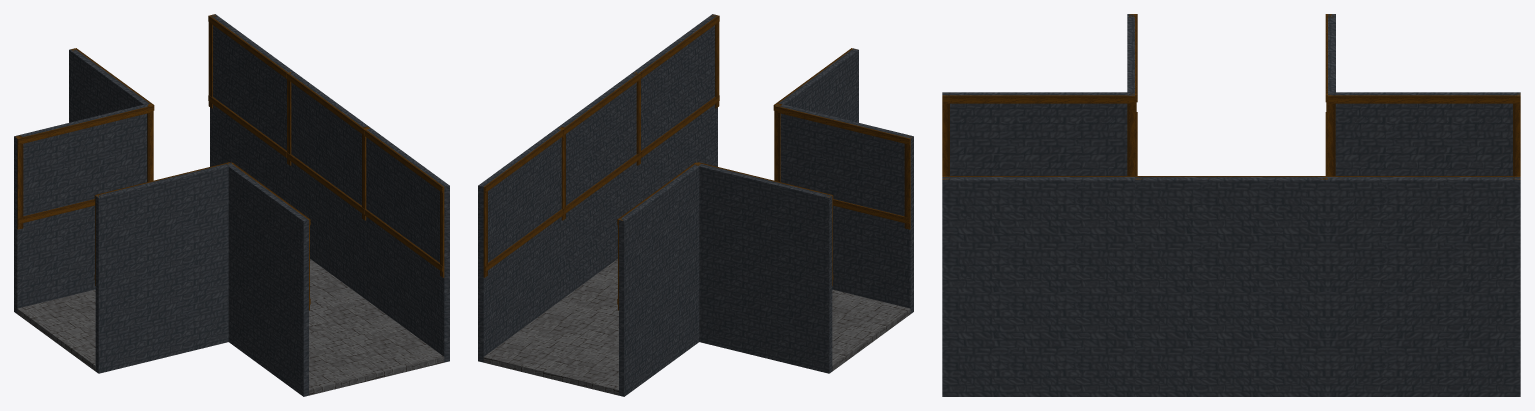
The model's file is T Stueck Schlucht V1.fbx.
3 renders of one model, left to right at view 1: azimuth 30°, elevation 25°; view 2: azimuth 150°, elevation 25°; view 3: azimuth 270°, elevation 25°, orthographic. The views are drawn at different scales.
Visible parts, largest first — view 1: T Stück Schlucht V1.012, T Stück Schlucht V1.015, T Stück Schlucht V1.010, T Stück Schlucht V1.002, T Stück Schlucht V1.013, T Stück Schlucht V1.017, T Stück Schlucht V1.016, T Stück Schlucht V1.018, T Stück Schlucht V1.006, T Stück Schlucht V1.008, T Stück Schlucht V1.011, T Stück Schlucht V1.005 (+4 smaller); view 2: T Stück Schlucht V1.015, T Stück Schlucht V1.012, T Stück Schlucht V1.011, T Stück Schlucht V1.003, T Stück Schlucht V1.014, T Stück Schlucht V1.018, T Stück Schlucht V1.016, T Stück Schlucht V1.017, T Stück Schlucht V1.007, T Stück Schlucht V1.009, T Stück Schlucht V1.010, T Stück Schlucht V1.005 (+4 smaller); view 3: T Stück Schlucht V1.016, T Stück Schlucht V1.017, T Stück Schlucht V1.018, T Stück Schlucht V1.005, T Stück Schlucht V1.006, T Stück Schlucht V1.007, T Stück Schlucht V1.014, T Stück Schlucht V1.013, T Stück Schlucht V1.015, T Stück Schlucht V1.012.
Boxes of the visible parts, x1,y1,x2,y2 form: T Stück Schlucht V1.012: (94,162,233,288); T Stück Schlucht V1.015: (14,104,153,229); T Stück Schlucht V1.010: (95,257,228,373); T Stück Schlucht V1.002: (309,300,444,395); T Stück Schlucht V1.013: (225,162,310,311); T Stück Schlucht V1.017: (364,128,449,277); T Stück Schlucht V1.016: (286,71,371,220); T Stück Schlucht V1.018: (208,14,292,157); T Stück Schlucht V1.006: (366,217,449,362); T Stück Schlucht V1.008: (228,257,308,396); T Stück Schlucht V1.011: (14,205,95,313); T Stück Schlucht V1.005: (288,162,366,299); T Stück Schlucht V1.015: (694,162,833,288); T Stück Schlucht V1.012: (774,104,913,229); T Stück Schlucht V1.011: (699,257,832,373); T Stück Schlucht V1.003: (483,300,618,395); T Stück Schlucht V1.014: (617,162,702,311); T Stück Schlucht V1.018: (478,128,563,277); T Stück Schlucht V1.016: (556,71,641,220); T Stück Schlucht V1.017: (635,14,719,157); T Stück Schlucht V1.007: (478,217,561,362); T Stück Schlucht V1.009: (619,257,699,396); T Stück Schlucht V1.010: (832,205,913,313); T Stück Schlucht V1.005: (561,162,639,299); T Stück Schlucht V1.016: (1135,176,1327,291); T Stück Schlucht V1.017: (942,176,1134,291); T Stück Schlucht V1.018: (1328,176,1520,291); T Stück Schlucht V1.005: (1135,292,1327,396); T Stück Schlucht V1.006: (942,292,1134,396); T Stück Schlucht V1.007: (1328,292,1520,396); T Stück Schlucht V1.014: (1328,92,1520,176); T Stück Schlucht V1.013: (942,92,1134,176); T Stück Schlucht V1.015: (1325,14,1335,176); T Stück Schlucht V1.012: (1127,14,1137,176).
Bounding box in the file's own units: 1020 × 1500 × 620.
Materials: 1 (1 with a texture image).
